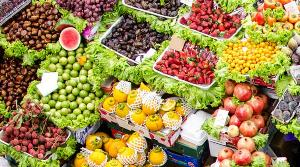pomegranate: (199, 85, 272, 167)
strawberry: (154, 42, 220, 80), (183, 1, 247, 36)
